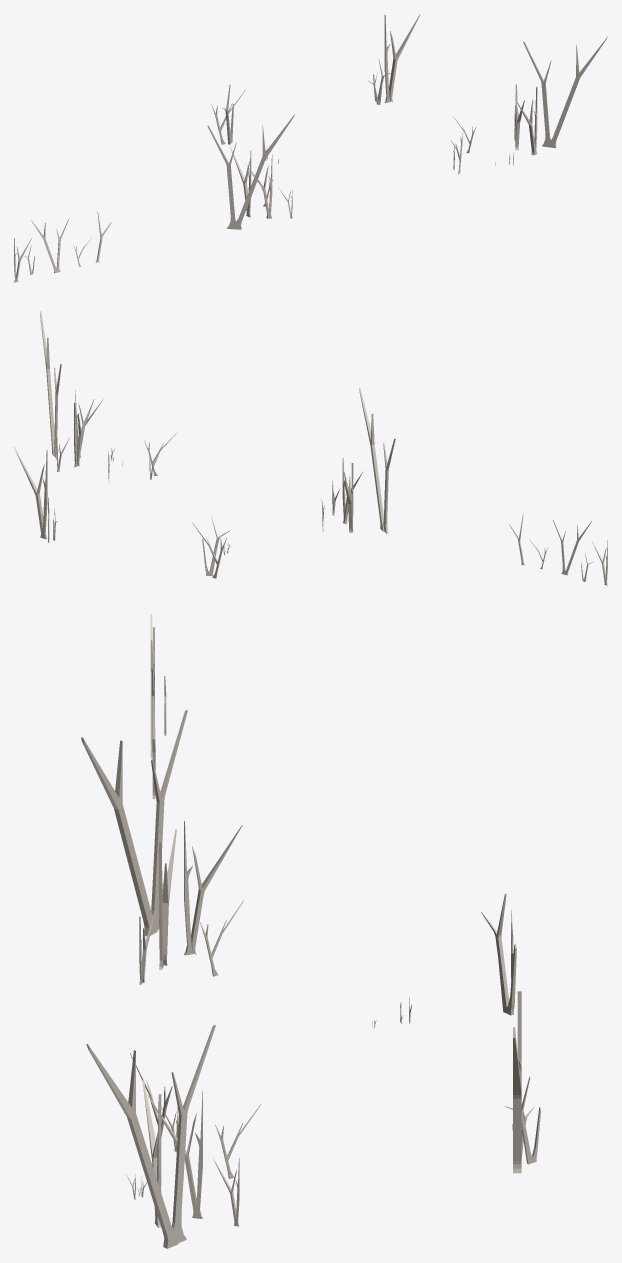
The model's file is tree (only).fbx.
The picture shows the model from 3 angles, top to bottom: view 1: azimuth 30°, elevation 25°; view 2: azimuth 150°, elevation 25°; view 3: azimuth 270°, elevation 25°; orthographic projection. The views are drawn at different scales.
Parts seen in each view (by area): view 1: Group15, Group7, Group34, Group11, Group3; view 2: Group7, Group15, Group34, Group14, Group3; view 3: Group15, Group7, Group34, Group3, Group6, Group24, Group14, Group11.
Part boxes in pixels (box(x1,y1,x2,y2)): Group15: box(523, 36, 607, 148); Group7: box(207, 114, 294, 229); Group34: box(384, 14, 420, 103); Group11: box(516, 86, 537, 155); Group3: box(230, 146, 251, 217); Group7: box(359, 388, 395, 533); Group15: box(39, 311, 61, 458); Group34: box(14, 447, 47, 539); Group14: box(74, 399, 94, 467); Group3: box(344, 463, 353, 532); Group15: box(86, 1024, 215, 1248); Group7: box(81, 709, 187, 936); Group34: box(513, 991, 521, 1173); Group3: box(184, 821, 242, 955); Group6: box(159, 829, 176, 969); Group24: box(481, 893, 516, 1015); Group14: box(147, 1091, 202, 1218); Group11: box(142, 1080, 162, 1227).
Bounding box in the file's own units: 1224 × 239 × 423.
